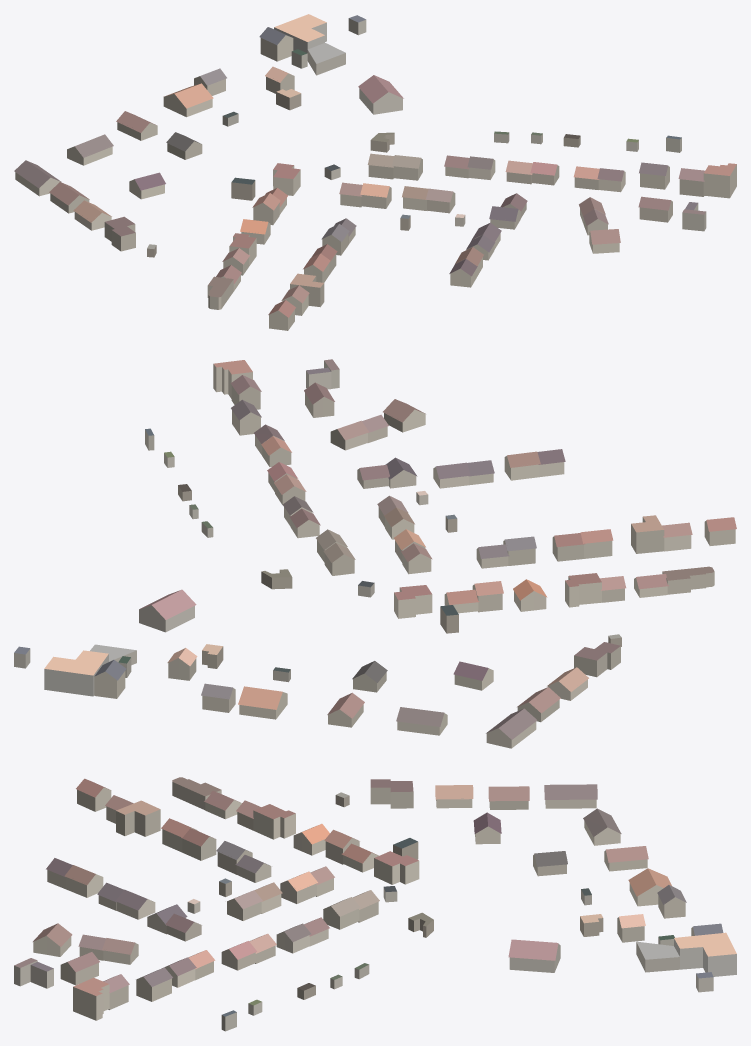
3 renders of one model, top to bottom at view 1: azimuth 30°, elevation 25°; view 2: azimuth 150°, elevation 25°; view 3: azimuth 270°, elevation 25°, orthographic. The views are drawn at different scales.
Visible parts, largest first — view 1: tuile; view 2: tuile; view 3: tuile.
Boxes of the visible parts, x1,y1,x2,y2 form: tuile: (14, 14, 736, 330); tuile: (14, 359, 736, 748); tuile: (14, 777, 736, 1031).
Size of the model in its own units: 210 by 24.31 by 238.
